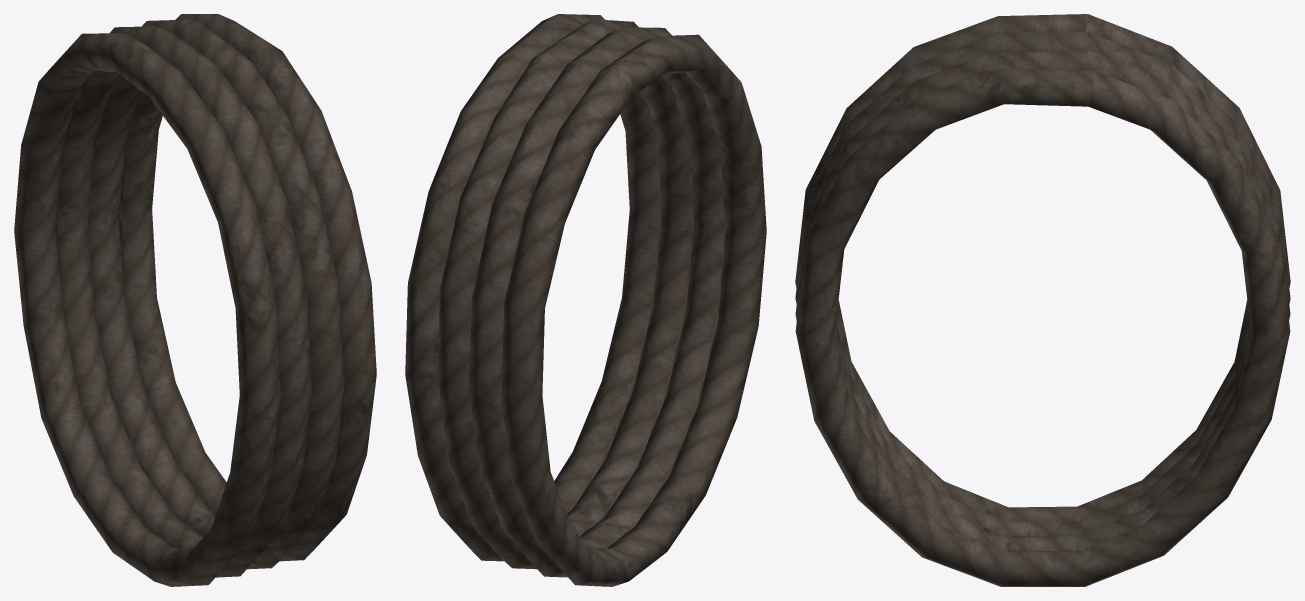
Rendered from SM_rope_01.fbx.
3 views of the same model, side by side, from view 1: azimuth 30°, elevation 25°; view 2: azimuth 150°, elevation 25°; view 3: azimuth 270°, elevation 25° (orthographic).
Visible parts, largest first — view 1: SM_rope_01_LOD0; view 2: SM_rope_01_LOD0; view 3: SM_rope_01_LOD0.
Boxes of the visible parts, x1,y1,x2,y2 form: SM_rope_01_LOD0: [14, 14, 376, 586]; SM_rope_01_LOD0: [405, 14, 766, 586]; SM_rope_01_LOD0: [795, 14, 1290, 586].
Bounding box in the file's own units: 14.1 × 45.21 × 53.08.
1 material, 1 textured.
